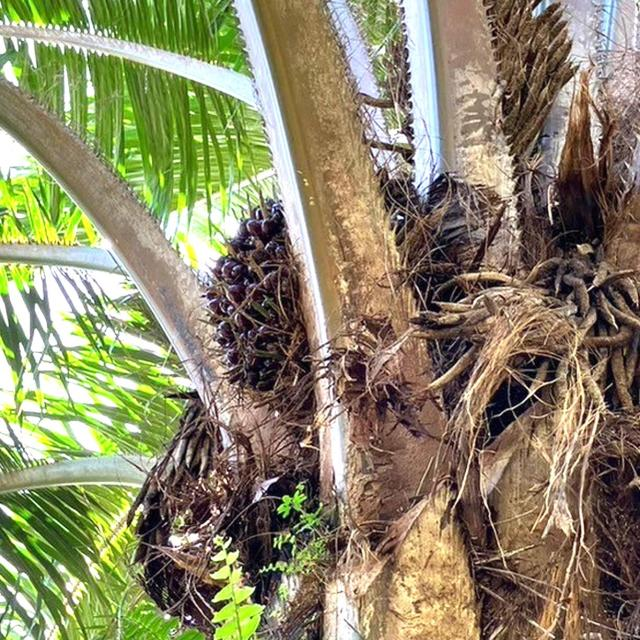ripe: (204, 199, 308, 398)
